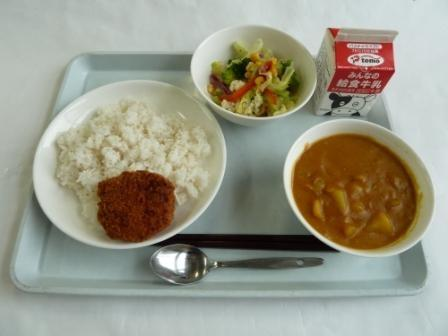Curry: (292, 118, 432, 249)
Milk: (313, 25, 400, 116)
Rice: (40, 94, 212, 182)
Salad: (195, 24, 308, 121)
cutlet: (94, 172, 178, 246)
